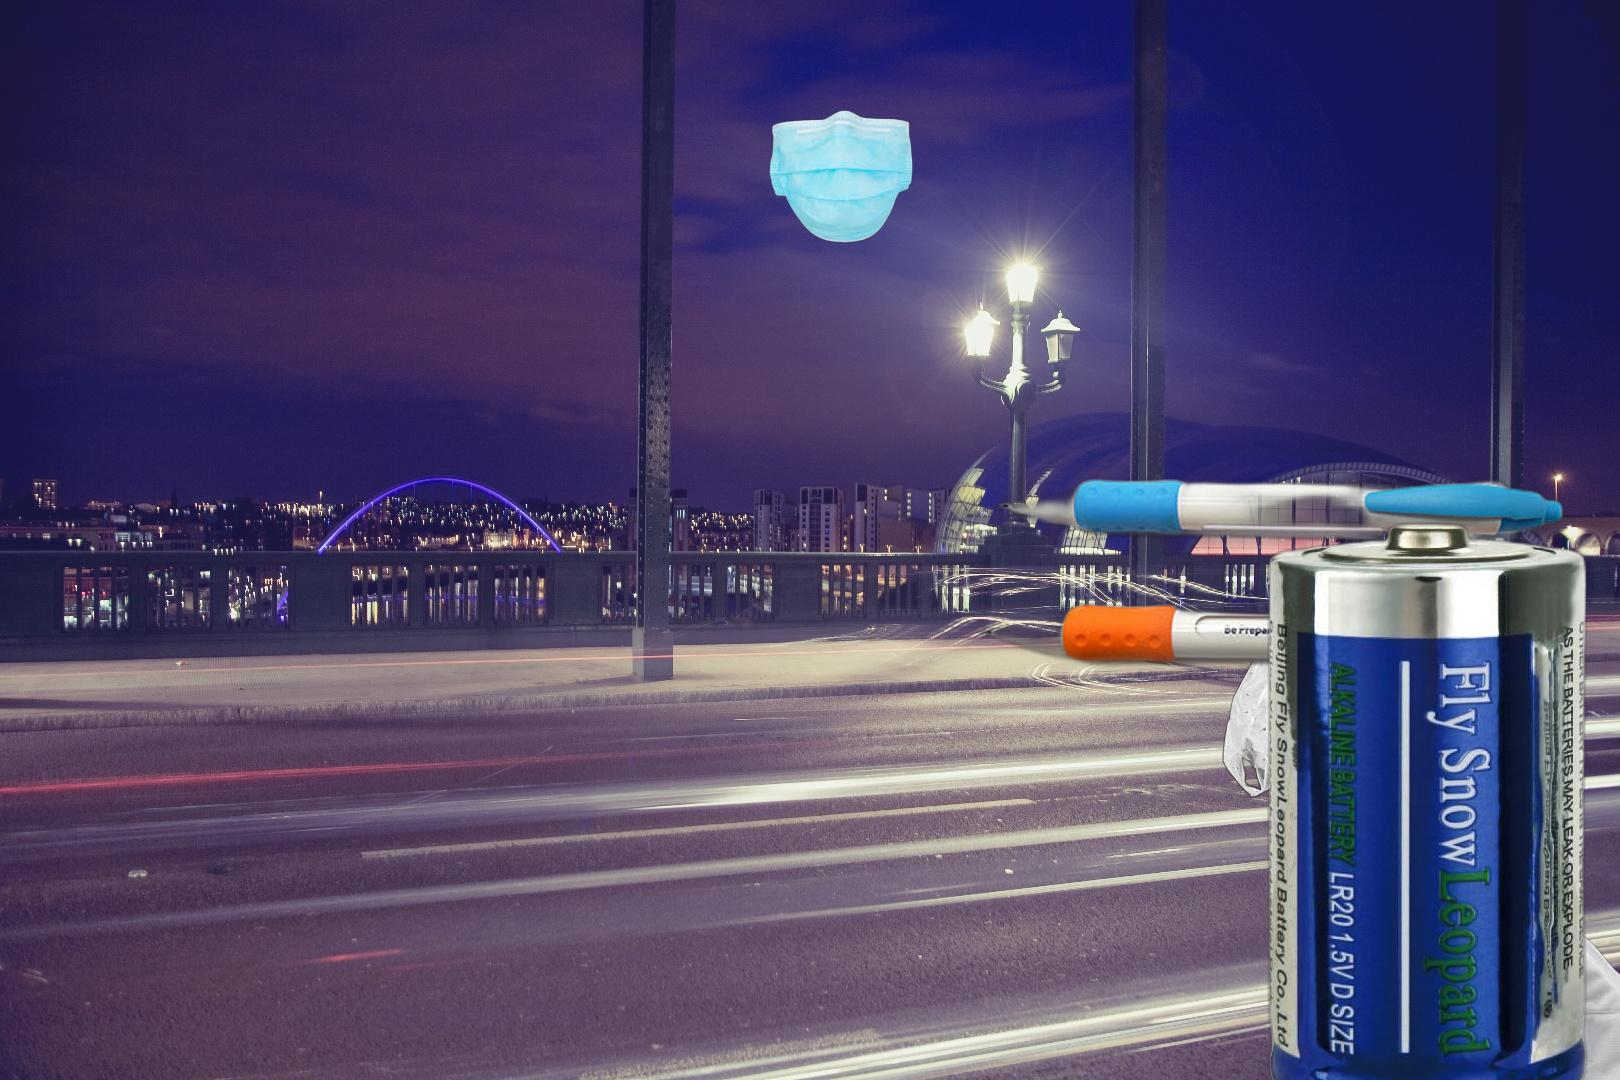battery: (1263, 517, 1593, 1080)
penholder: (974, 472, 1571, 673)
plastic-bag: (1220, 646, 1377, 820)
trash: (1469, 925, 1620, 1080), (767, 108, 916, 245)
